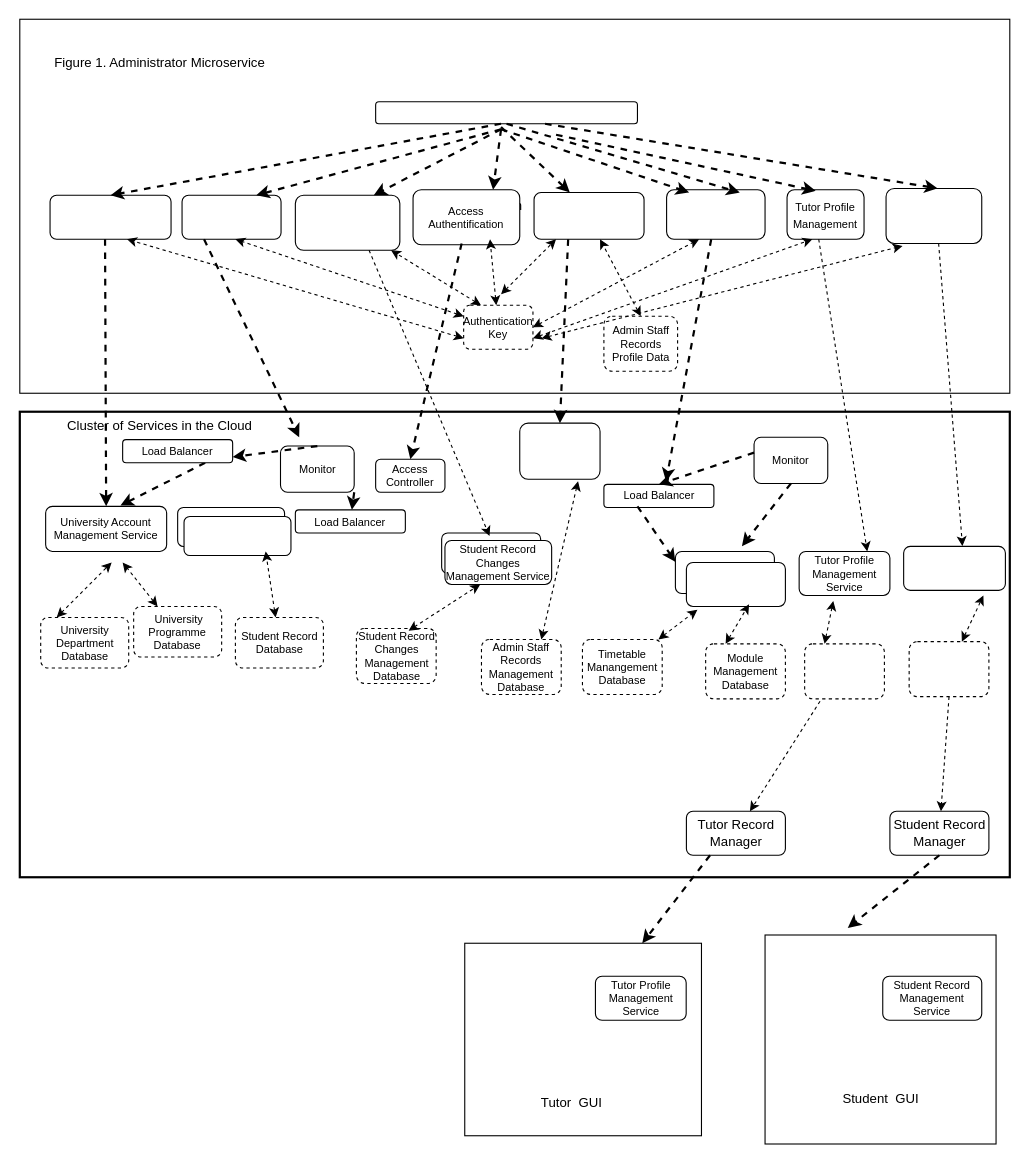
Some shapes in this 1030 by 1164 pixel diagram are drawn without their labels. The shapes that lost their labels are listed below. From the top down, each one's box as (x1, y1, x2, y2) in pixels, then its label:
(375, 101, 637, 124): Administrator GUI
(49, 194, 171, 239): University Account Management
(181, 194, 281, 239): Student Record Management
(294, 194, 400, 250): Student Record Changes Management
(533, 191, 644, 239): Admin Staff Records Management
(666, 189, 765, 239): Program/Module Management
(885, 187, 982, 243): Student Profile Management
(519, 422, 600, 479): Admin Staff Records Management Service
(183, 515, 291, 556): Student Record Service
(685, 561, 785, 606): Program/Module Management Service
(903, 545, 1005, 590): Student Profile Management Service
(804, 643, 884, 699): Tutor Profile Management Database
(908, 641, 989, 697): Student Profile Management Database
